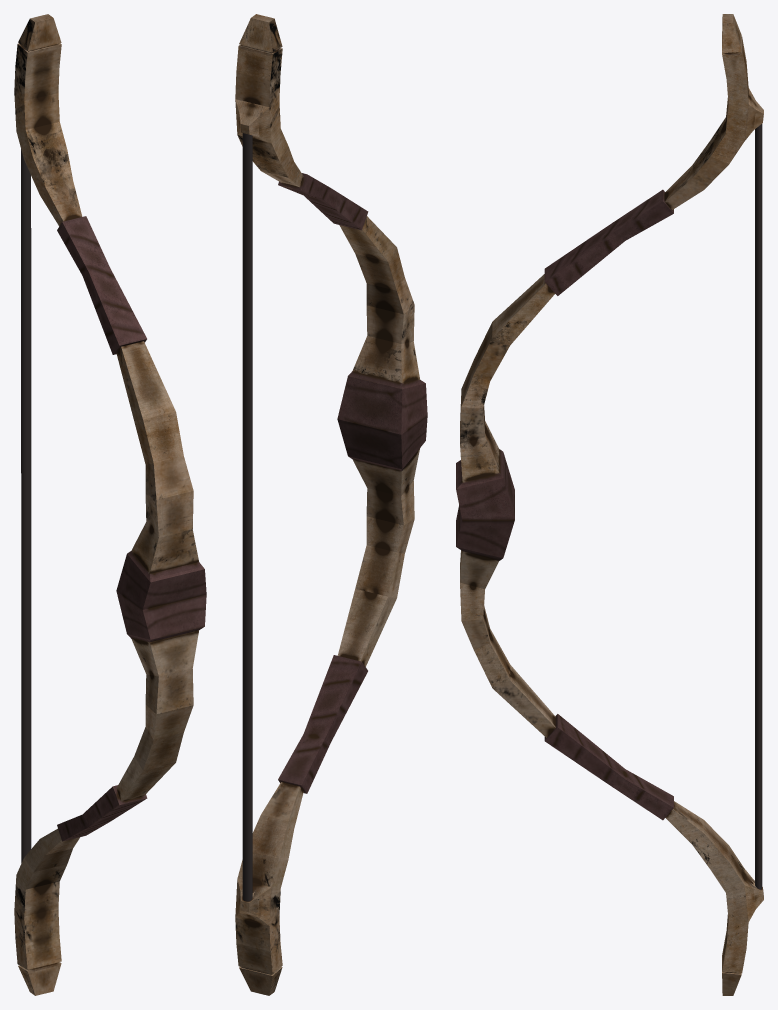
File: kısa yay low.fbx
3 renders of one model, left to right at view 1: azimuth 30°, elevation 25°; view 2: azimuth 150°, elevation 25°; view 3: azimuth 270°, elevation 25°, orthographic.
Visible parts, largest first — view 1: shotbow_LOW, Circle.001; view 2: shotbow_LOW, Circle.001; view 3: shotbow_LOW, Circle.001.
Part boxes in pixels (x1,y1,x2,y2): shotbow_LOW: [14, 14, 206, 995]; Circle.001: [21, 149, 31, 862]; shotbow_LOW: [235, 14, 427, 995]; Circle.001: [242, 133, 252, 901]; shotbow_LOW: [456, 14, 763, 995]; Circle.001: [755, 124, 762, 889].
Size of the model in its own units: 22.5 by 327 by 93.73.
